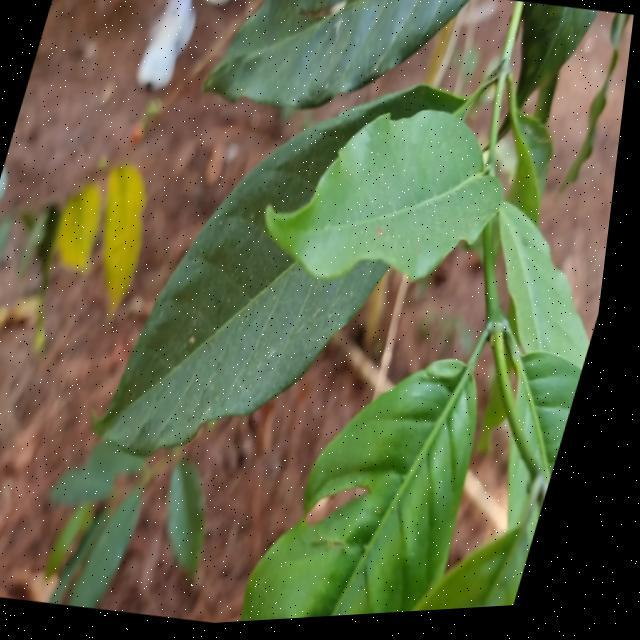leaves: (56, 21, 504, 512), (257, 82, 527, 337)
